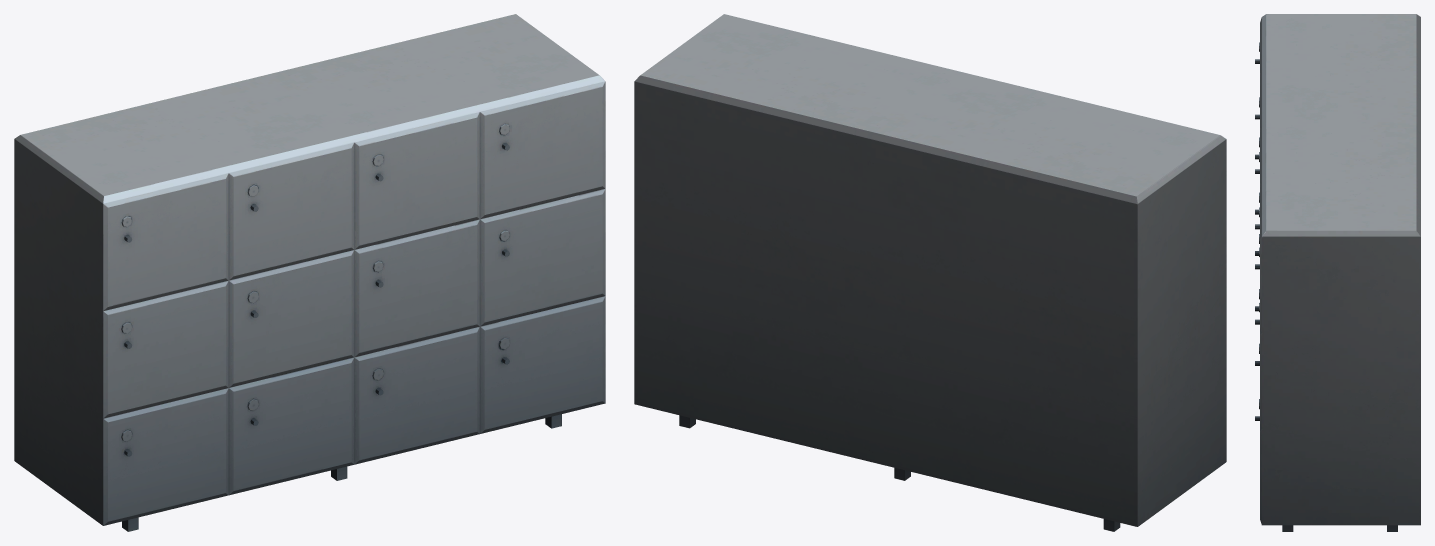
The model's file is SM_Lockers.FBX.
3 renders of one model, left to right at view 1: azimuth 30°, elevation 25°; view 2: azimuth 150°, elevation 25°; view 3: azimuth 270°, elevation 25°, orthographic. The views are drawn at different scales.
Parts seen in each view (by area): view 1: SM_Lockers; view 2: SM_Lockers; view 3: SM_Lockers.
Boxes of the visible parts, bbox=[...] form: SM_Lockers: bbox=[14, 14, 605, 531]; SM_Lockers: bbox=[634, 14, 1226, 531]; SM_Lockers: bbox=[1255, 14, 1420, 531].
Bounding box in the file's own units: 201 × 64.26 × 134.
